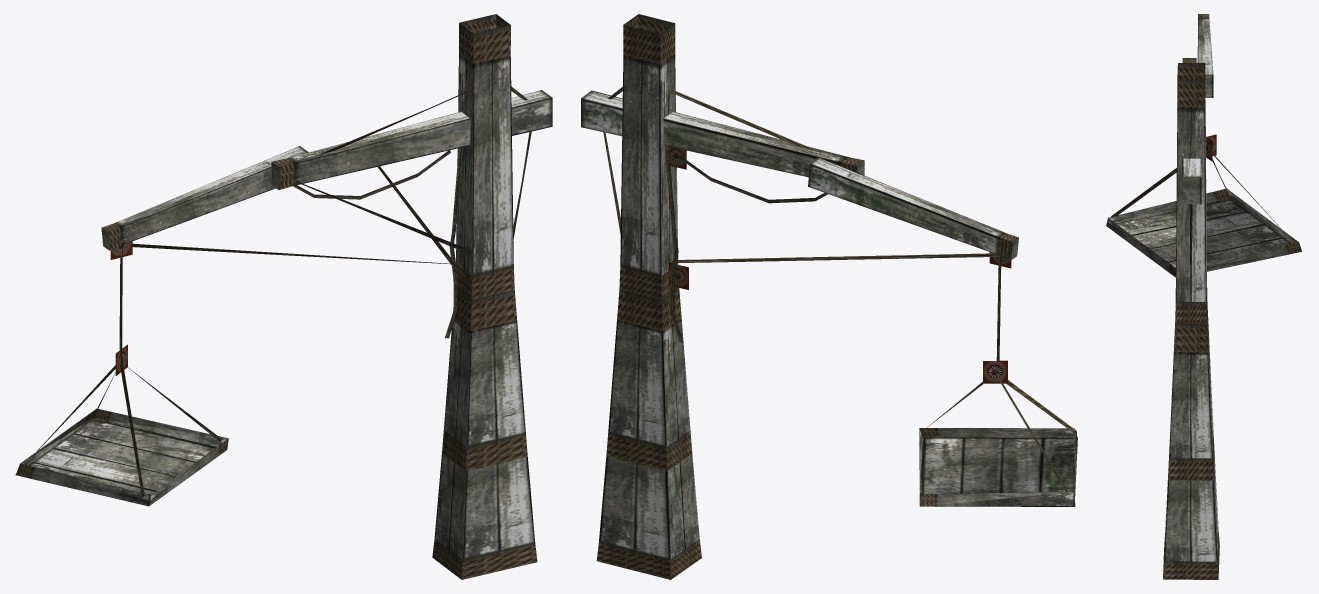
File: Crane.fbx
3 renders of one model, left to right at view 1: azimuth 30°, elevation 25°; view 2: azimuth 150°, elevation 25°; view 3: azimuth 270°, elevation 25°, orthographic. The views are drawn at different scales.
Visible parts, largest first — view 1: crane_post, crane_platform, crane_arm_01, crane_arm_02, crane_rope_06, crane_rope_01, crane_rope_11; view 2: crane_post, crane_platform, crane_arm_01, crane_arm_02, crane_rope_01, crane_rope_06, crane_rope_11, crane_rope_03; view 3: crane_post, crane_platform, crane_arm_01, crane_arm_02, crane_rope_11, crane_rope_05.
Part boxes in pixels (x1,y1,x2,y2): crane_post: (432,14,537,579); crane_platform: (16,408,228,506); crane_arm_01: (271,90,552,189); crane_arm_02: (101,146,308,250); crane_rope_06: (445,147,462,338); crane_rope_01: (132,243,466,264); crane_rope_11: (15,360,144,497); crane_post: (596,14,701,579); crane_platform: (919,428,1077,506); crane_arm_01: (581,90,864,177); crane_arm_02: (808,157,1018,260); crane_rope_01: (671,253,1001,263); crane_rope_06: (665,149,683,342); crane_rope_11: (995,371,1076,506); crane_rope_03: (668,89,820,152); crane_post: (1163,63,1219,579); crane_platform: (1106,188,1301,277); crane_arm_01: (1182,58,1201,204); crane_arm_02: (1197,14,1213,97); crane_rope_11: (1111,158,1230,216); crane_rope_05: (1189,204,1192,321).
Bounding box in the file's own units: 7385 × 7397 × 2709.
2 materials, 2 textured.
